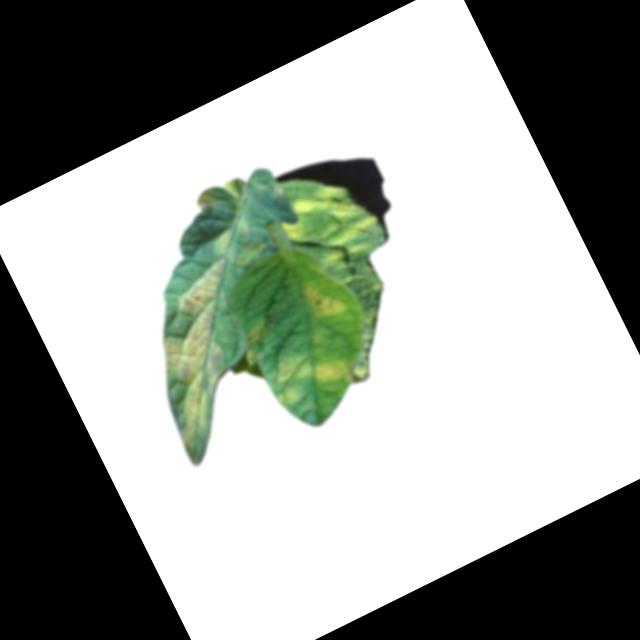Leaf_Mold: (116, 257, 290, 450), (273, 173, 384, 280), (258, 329, 354, 413), (297, 272, 352, 329), (193, 188, 220, 215)
